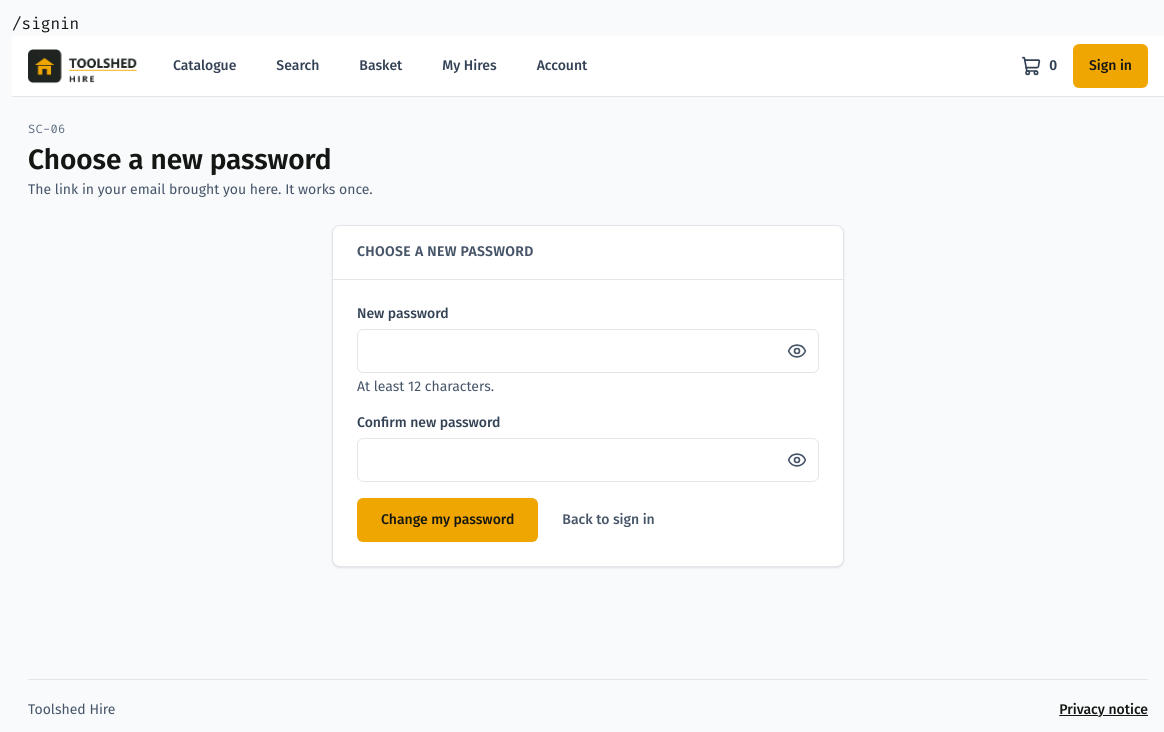
choosing a new password from the link › leaves the token in no storage, no log line and nowhere on the page
This screenshot has width=1164, height=732.
Type "a-new-password" into the password field labelled "New password". click: point(588, 351)
box: [357,329,819,373]
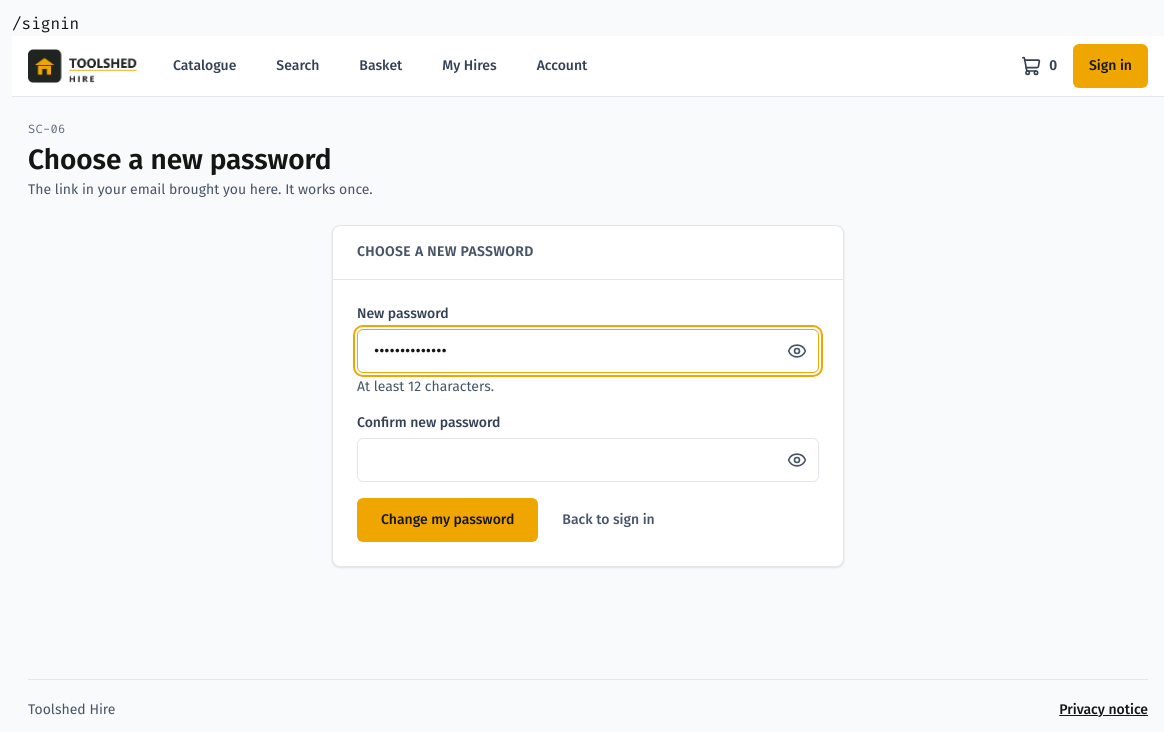
Type "a-new-password" into the password field labelled "Confirm new password". click: point(588, 460)
box: [357,438,819,482]
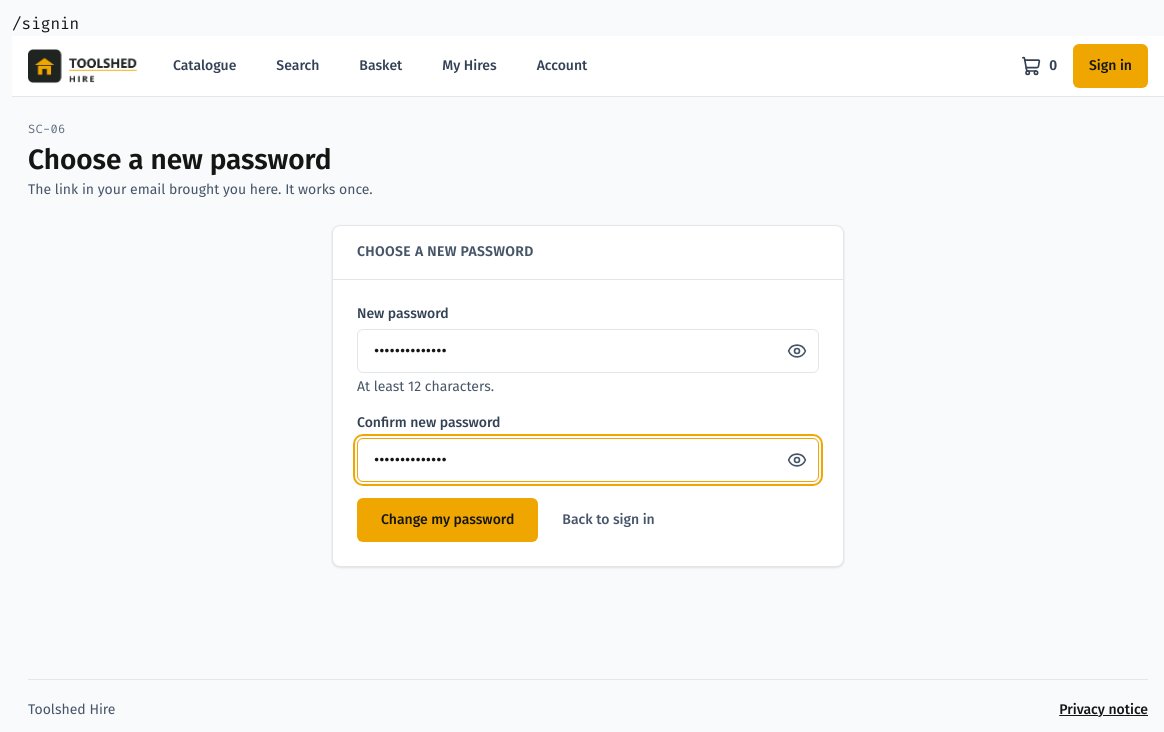
Click the button "Change my password". click: point(448, 520)
box: [357,498,538,542]
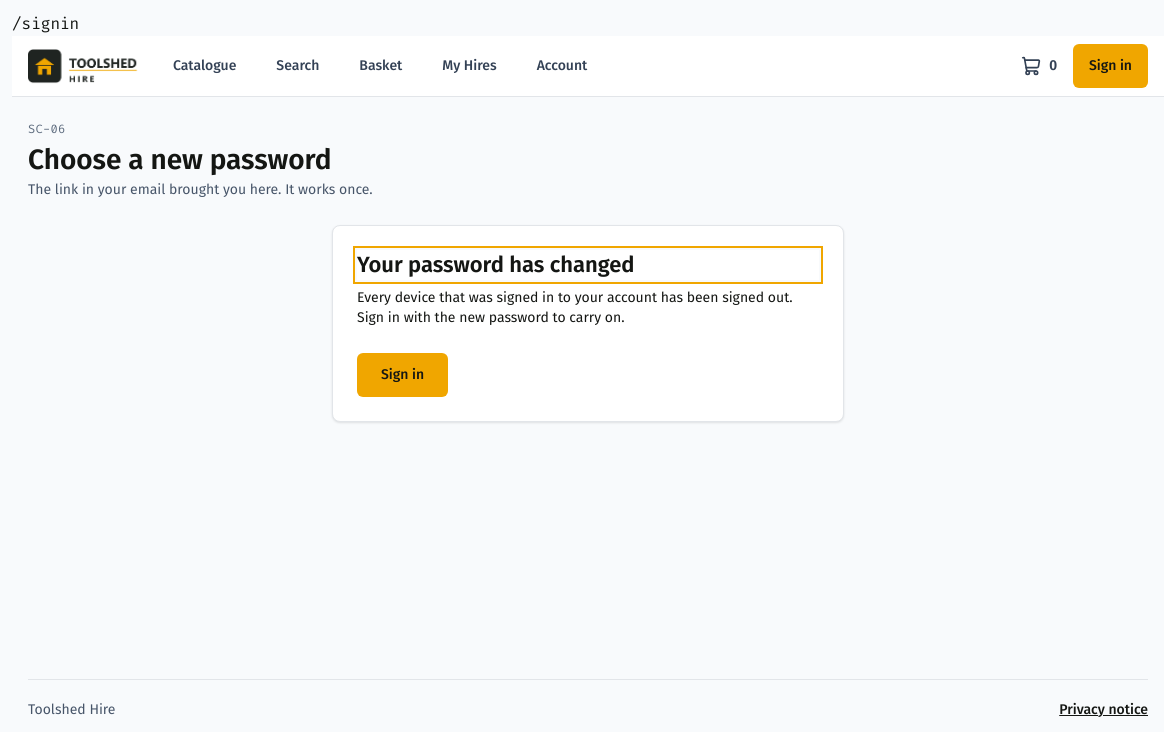
Now the heading "Your password has changed" is shown, box [357,250,819,280]
